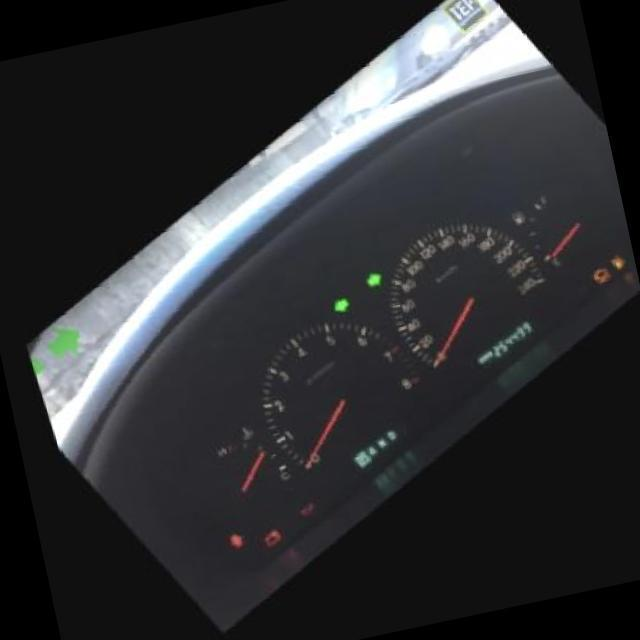Engine cooling system: (228, 424, 250, 446)
Low fuel level: (604, 256, 624, 276), (503, 213, 523, 232)
